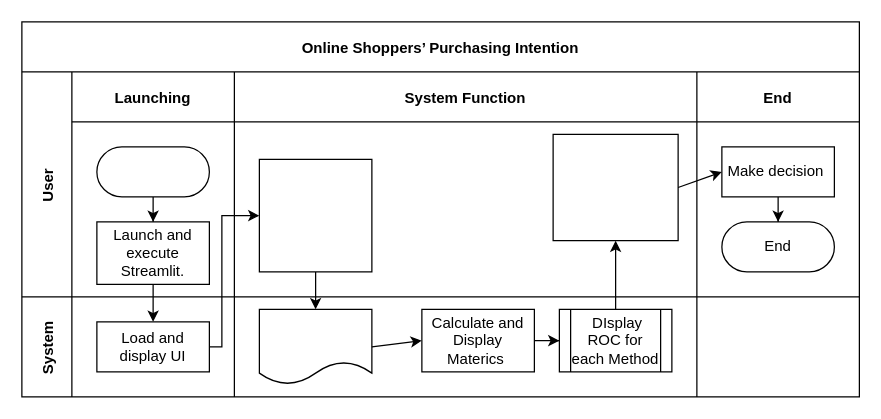
Image size: 881x419. Some labels were removed from this diagram. The centre of each missing label's shape, as x and y in pixels:
"Compare different classifire between each Method" belongs at point (615, 187).
"Enable users to make a classifier selection for display." belongs at point (315, 215).
"Perform ML for each Method" belongs at point (315, 346).
"Start" belongs at point (152, 171).
